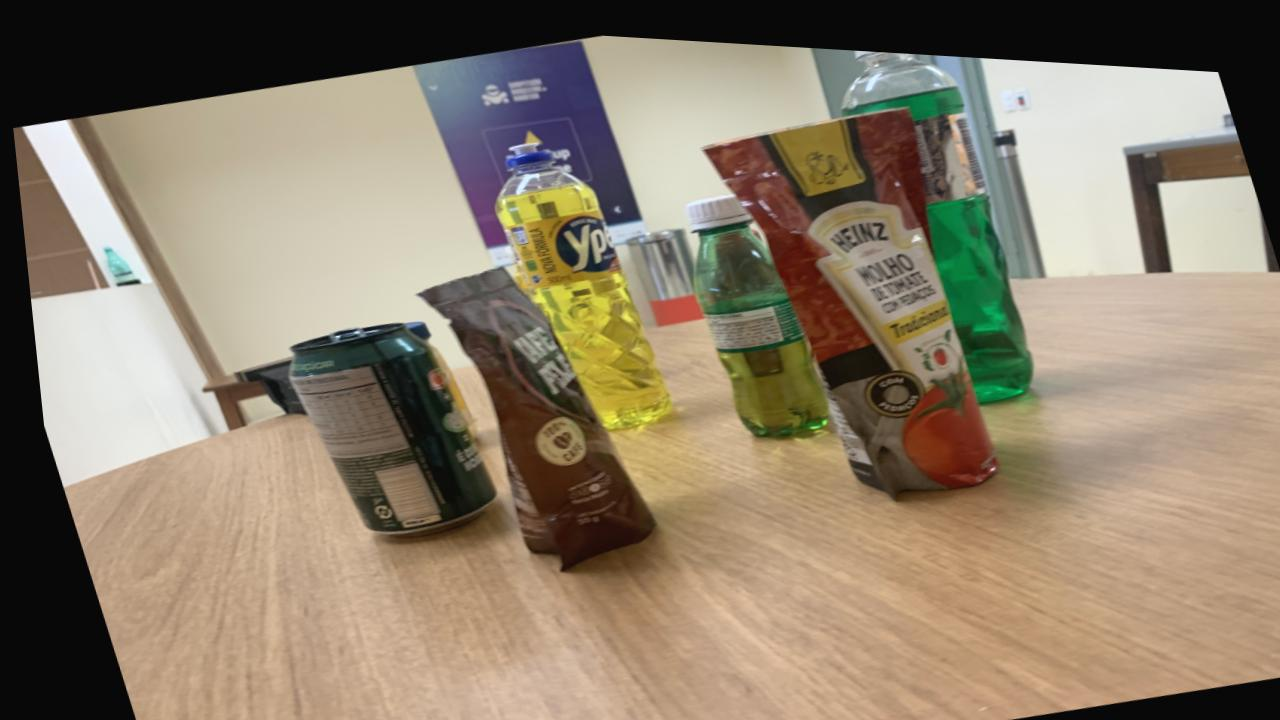Coffee-Pantry_Items: (413, 262, 644, 563)
Detergent-Cleanup_Items: (838, 40, 1027, 391), (490, 136, 664, 423)
Guarana-Drinks: (682, 185, 822, 428)
Guarana_Can-Drinks: (281, 318, 486, 532)
Mayonnaise-Pantry_Items: (423, 340, 469, 434), (399, 316, 425, 340)
Tomato_Sauce-Pantry_Items: (701, 97, 990, 486)
